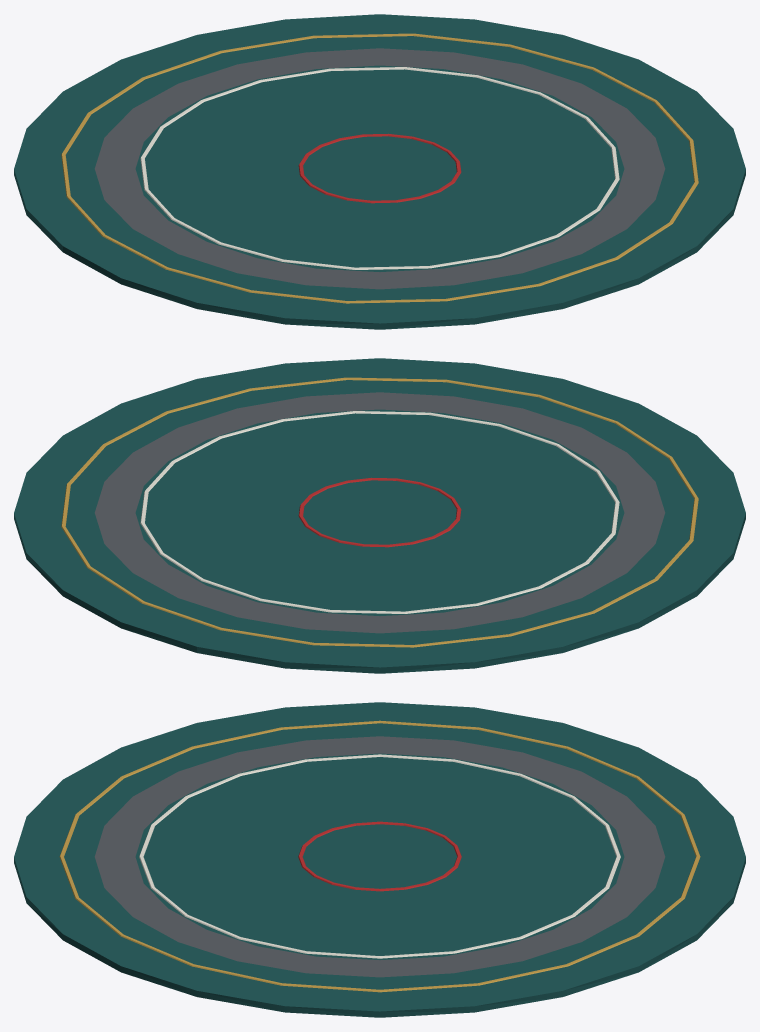
File: rugRound.glb
3 views of the same model, one above another, from view 1: azimuth 30°, elevation 25°; view 2: azimuth 150°, elevation 25°; view 3: azimuth 270°, elevation 25° (orthographic).
Visible parts, largest first — view 1: rugRound(Clone); view 2: rugRound(Clone); view 3: rugRound(Clone).
Part boxes in pixels (x1,y1,x2,y2): rugRound(Clone): (14, 14, 745, 329); rugRound(Clone): (14, 358, 745, 673); rugRound(Clone): (14, 702, 745, 1017).
Bounding box in the file's own units: 0.92 × 0.01 × 0.92.
